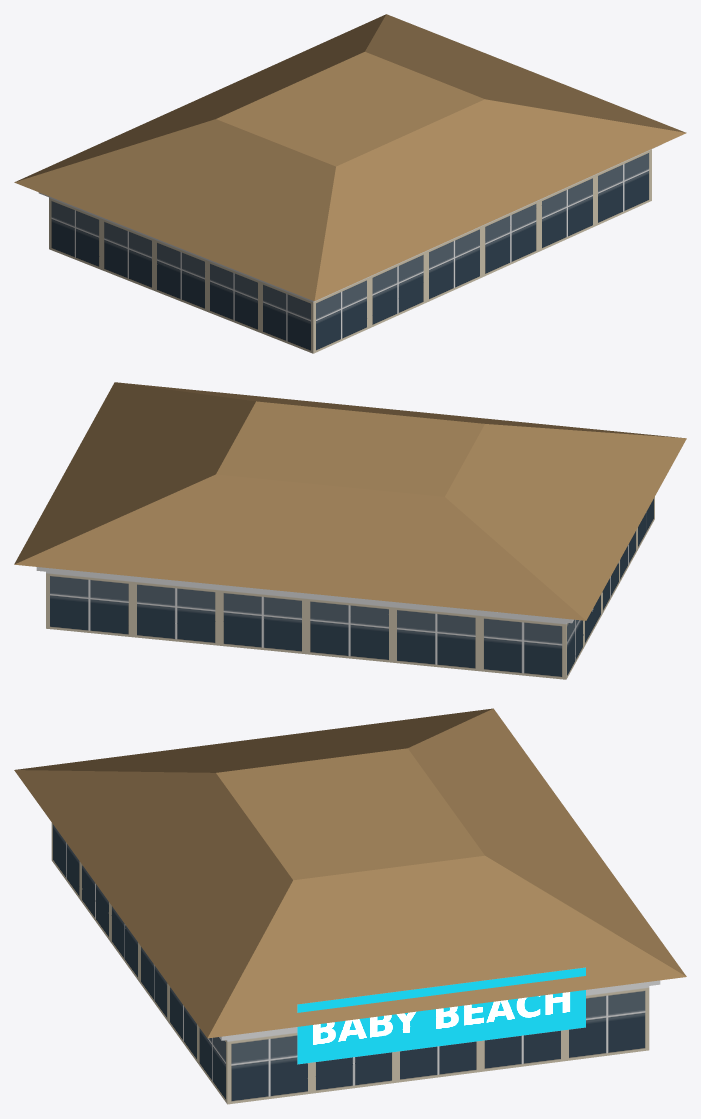
The model's file is babybeach_fac.glb.
3 renders of one model, top to bottom at view 1: azimuth 30°, elevation 25°; view 2: azimuth 150°, elevation 25°; view 3: azimuth 270°, elevation 25°, orthographic. The views are drawn at different scales.
Visible parts, largest first — view 1: babybeach_fac_lod0; view 2: babybeach_fac_lod0; view 3: babybeach_fac_lod0.
Boxes of the visible parts, x1,y1,x2,y2 form: babybeach_fac_lod0: (14, 14, 686, 353); babybeach_fac_lod0: (14, 382, 686, 679); babybeach_fac_lod0: (14, 708, 686, 1104).
Size of what is drawn, in the model's own units: 31.09 by 6.2 by 26.8.
Materials: 4 (2 with a texture image).
